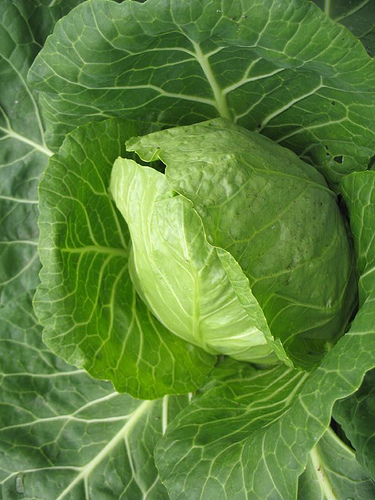cabbage: (1, 1, 373, 498)
